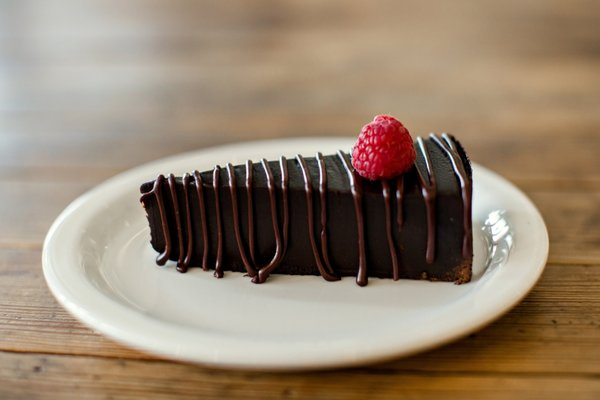curry: (1, 0, 595, 390)
sushi: (136, 116, 476, 285)
